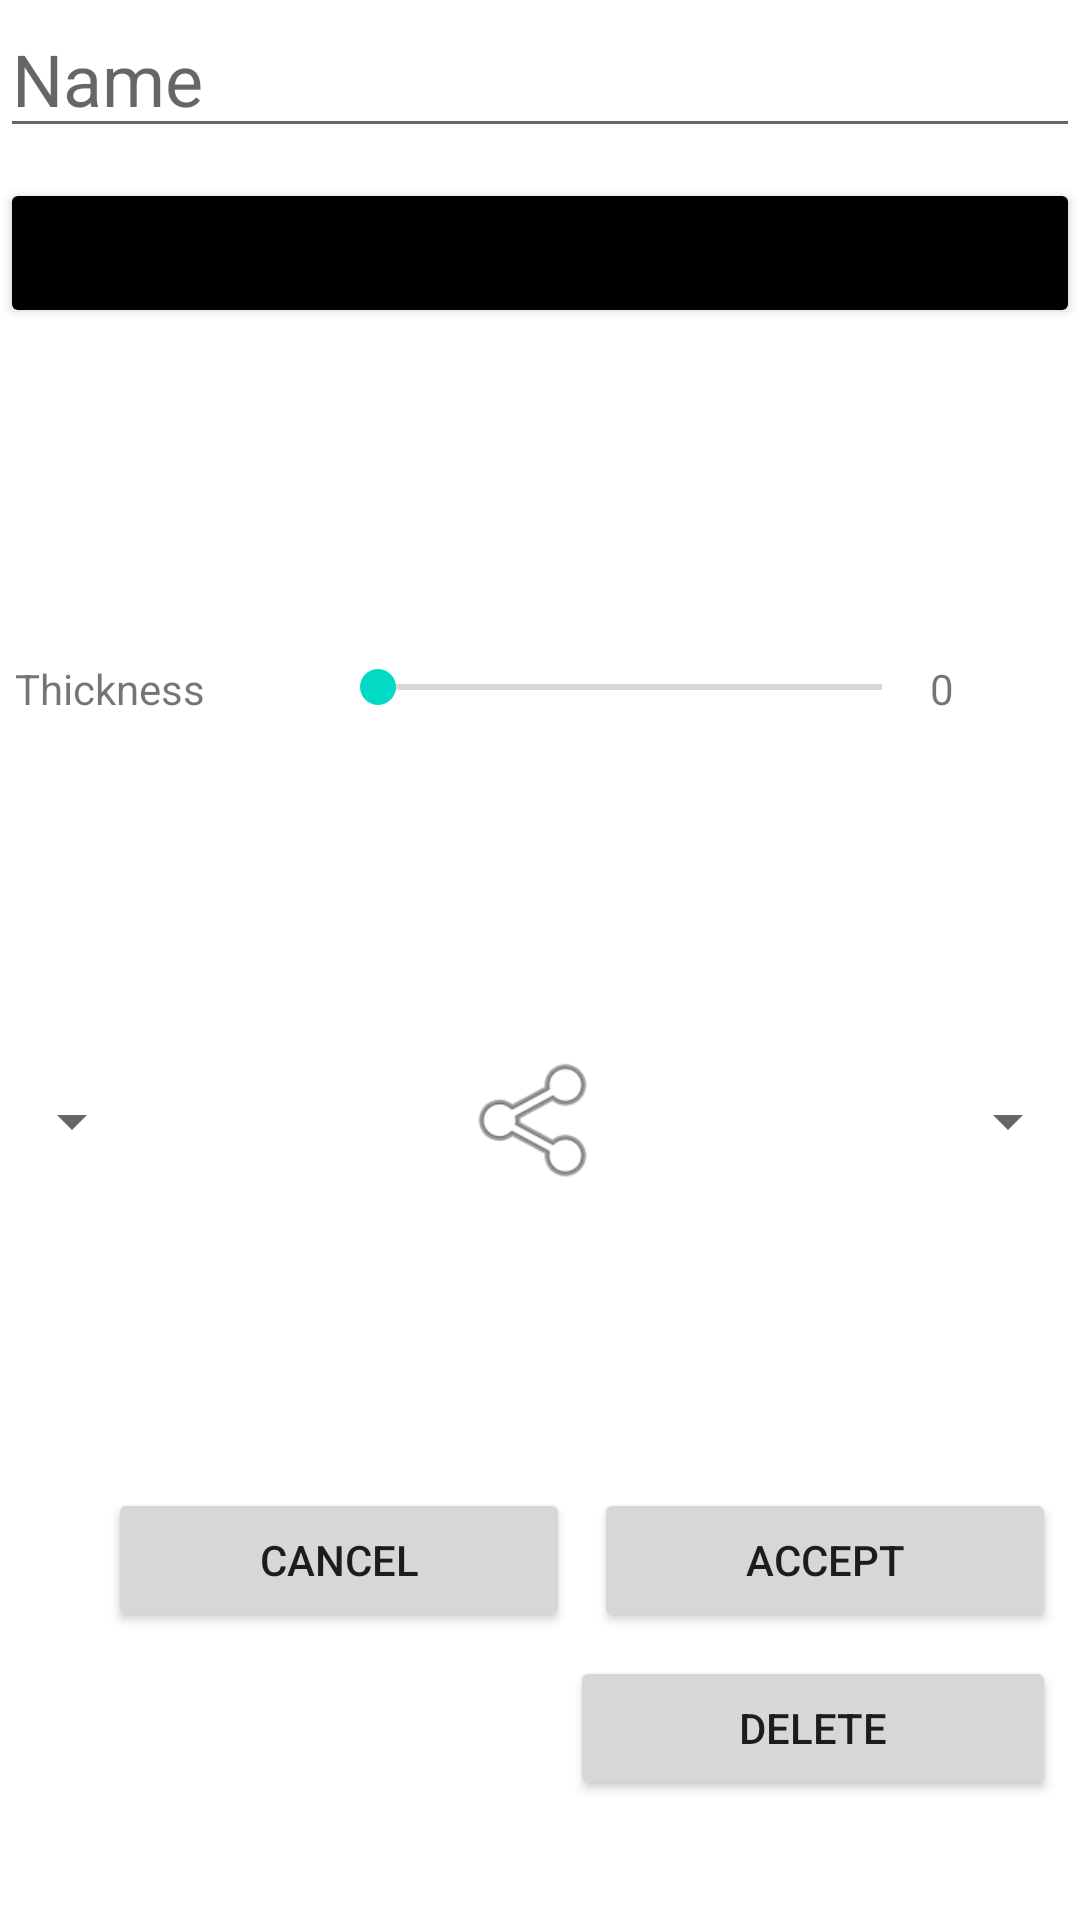

Named icons in this screenshot (1080 × 1920) and their centers, (x=x, y=y):
share: (x=532, y=1120)
